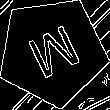M_SE: (21, 19, 84, 84)
